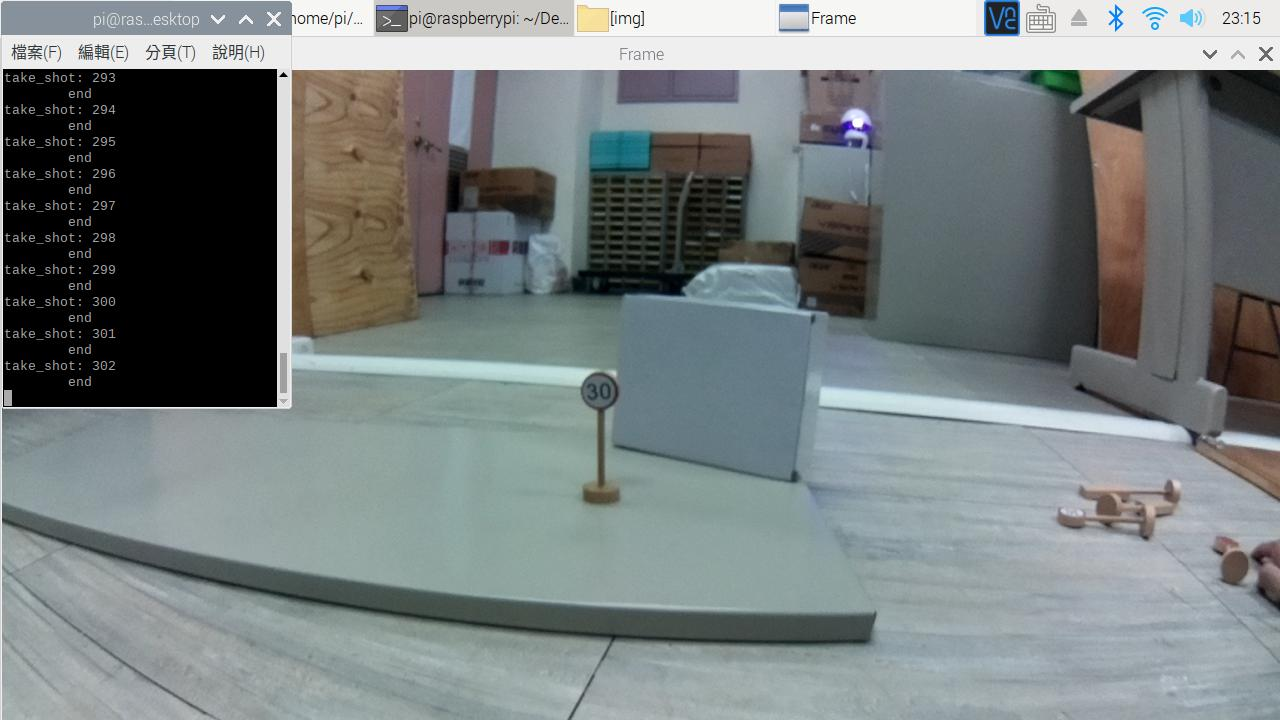Speed30: (569, 364, 634, 430)
